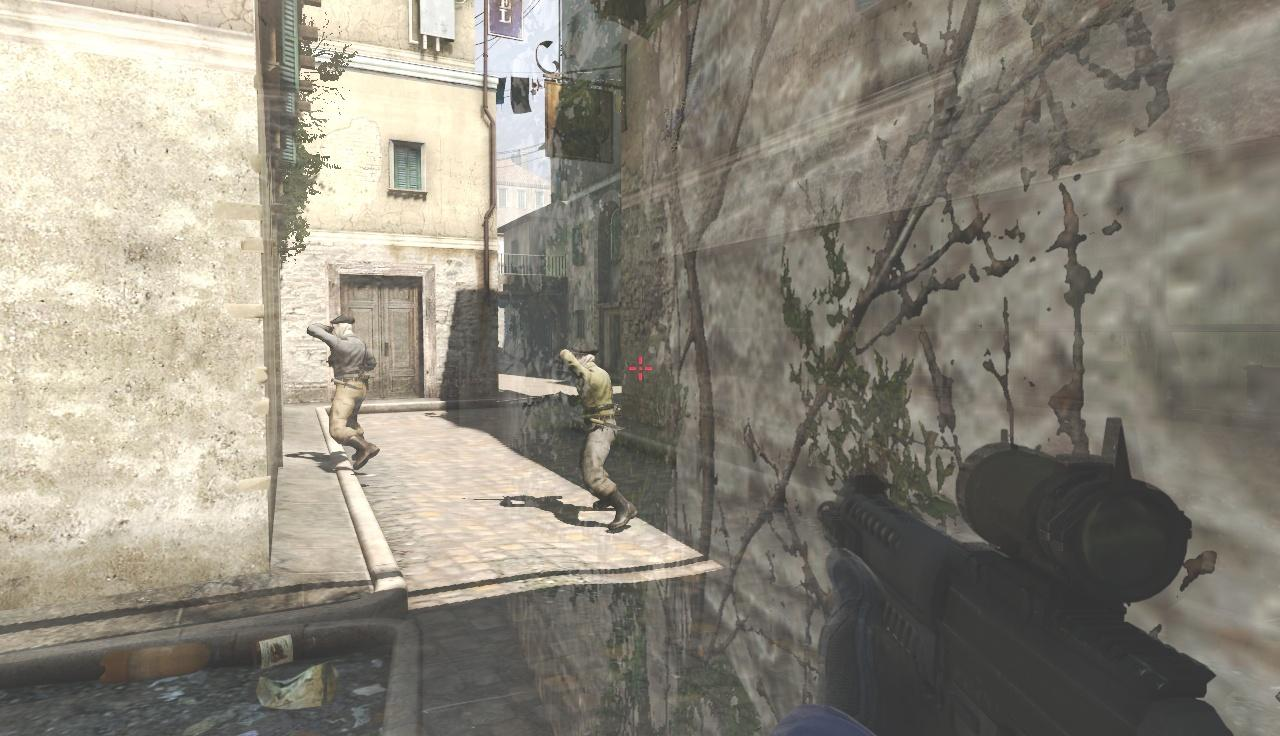rifle: (814, 448, 1280, 736)
tt: (562, 341, 618, 522), (324, 316, 367, 458)
tthead: (570, 342, 597, 369), (330, 316, 355, 338)
